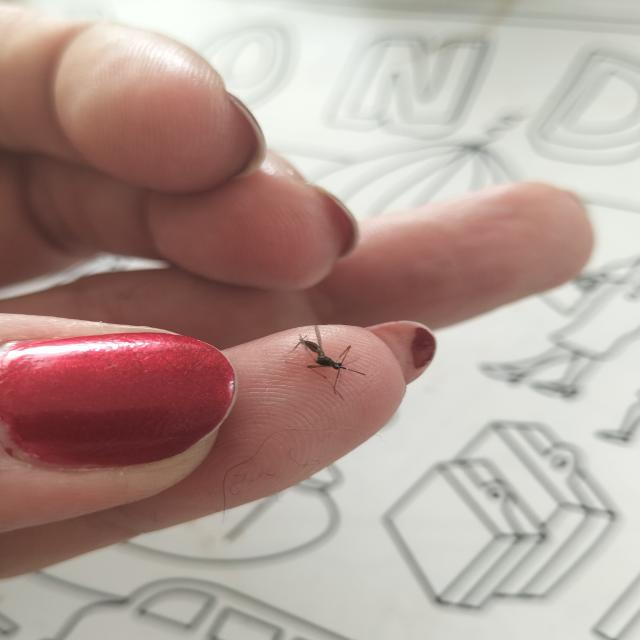albopictus: (287, 326, 375, 401)
